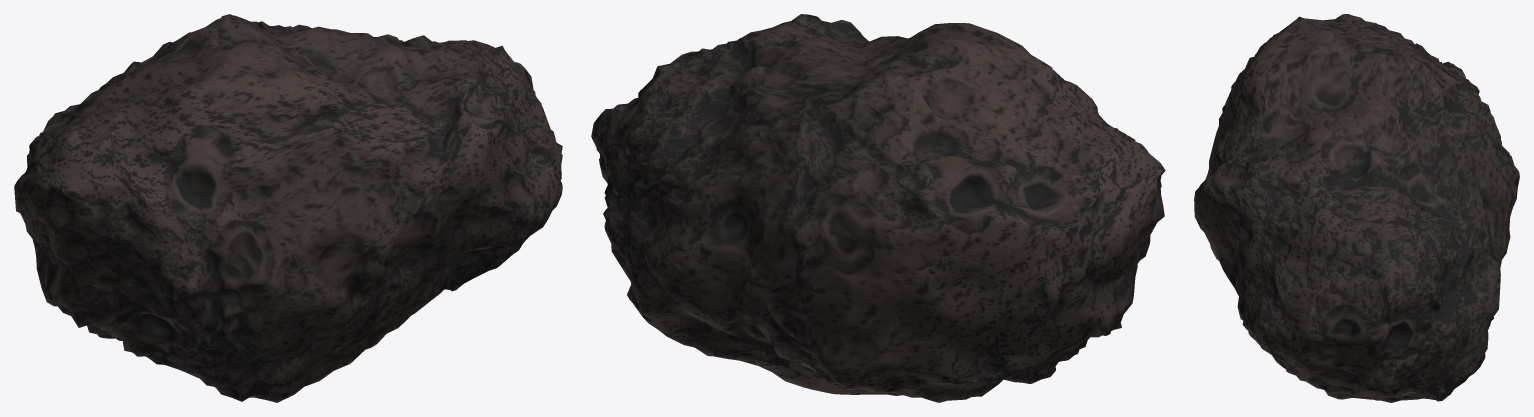
File: meteorits.glb
3 renders of one model, left to right at view 1: azimuth 30°, elevation 25°; view 2: azimuth 150°, elevation 25°; view 3: azimuth 270°, elevation 25°, orthographic. The views are drawn at different scales.
Visible parts, largest first — view 1: Meteorit.lod0; view 2: Meteorit.lod0; view 3: Meteorit.lod0.
Part boxes in pixels (x1,y1,x2,y2): Meteorit.lod0: [14, 14, 562, 402]; Meteorit.lod0: [591, 14, 1165, 402]; Meteorit.lod0: [1194, 14, 1519, 402].
Bounding box in the file's own units: 39.96 × 25.65 × 23.83.
Materials: 1 (1 with a texture image).
